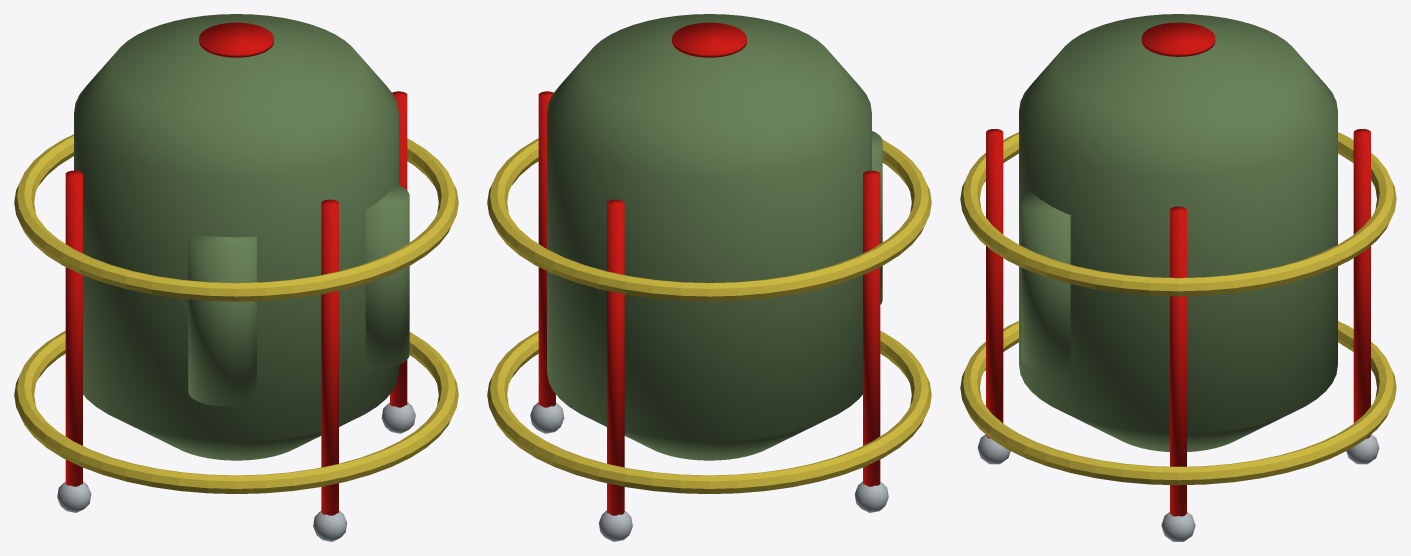
3 renders of one model, left to right at view 1: azimuth 30°, elevation 25°; view 2: azimuth 150°, elevation 25°; view 3: azimuth 270°, elevation 25°, orthographic.
Visible parts, largest first — view 1: TI076 / rounded cylindrical payload, TI076 / large protective guard ring.001, TI076 / large protective guard ring, TI076 / front ribbed service pod, TI076 / front ribbed service pod.001, TI076 / guard upright.003, TI076 / guard upright.002, TI076 / top red seal, TI076 / guard upright, TI076 / support foot, TI076 / support foot.002, TI076 / support foot.003; view 2: TI076 / rounded cylindrical payload, TI076 / large protective guard ring, TI076 / large protective guard ring.001, TI076 / guard upright.001, TI076 / guard upright.002, TI076 / guard upright, TI076 / top red seal, TI076 / support foot, TI076 / support foot.002, TI076 / support foot.001, TI076 / front ribbed service pod; view 3: TI076 / rounded cylindrical payload, TI076 / large protective guard ring.001, TI076 / large protective guard ring, TI076 / front ribbed service pod.001, TI076 / guard upright.001, TI076 / guard upright.003, TI076 / guard upright, TI076 / top red seal, TI076 / support foot, TI076 / support foot.001, TI076 / support foot.003.
Part boxes in pixels (x1,y1,x2,y2): TI076 / rounded cylindrical payload: (74,14,398,460); TI076 / large protective guard ring.001: (14,134,458,301); TI076 / large protective guard ring: (14,331,458,493); TI076 / front ribbed service pod: (188,234,256,405); TI076 / front ribbed service pod.001: (365,184,409,368); TI076 / guard upright.003: (321,199,338,515); TI076 / guard upright.002: (65,170,82,486); TI076 / top red seal: (199,22,273,57); TI076 / guard upright: (390,91,407,407); TI076 / support foot: (381,402,415,433); TI076 / support foot.002: (57,481,91,512); TI076 / support foot.003: (313,510,347,541); TI076 / rounded cylindrical payload: (547,14,871,460); TI076 / large protective guard ring: (487,331,931,493); TI076 / large protective guard ring.001: (487,138,931,301); TI076 / guard upright.001: (607,199,624,515); TI076 / guard upright.002: (863,170,880,486); TI076 / guard upright: (538,91,555,407); TI076 / top red seal: (672,22,746,57); TI076 / support foot: (530,402,564,433); TI076 / support foot.002: (854,481,888,512); TI076 / support foot.001: (598,510,632,541); TI076 / front ribbed service pod: (872,131,882,304); TI076 / rounded cylindrical payload: (1019,14,1337,451); TI076 / large protective guard ring.001: (960,132,1396,296); TI076 / large protective guard ring: (960,321,1396,485); TI076 / front ribbed service pod.001: (1021,192,1070,371); TI076 / guard upright.001: (1353,129,1370,438); TI076 / guard upright.003: (986,129,1003,438); TI076 / guard upright: (1170,206,1186,516); TI076 / top red seal: (1141,22,1215,56); TI076 / support foot: (1161,512,1195,541); TI076 / support foot.001: (1346,434,1379,464); TI076 / support foot.003: (977,434,1010,464).
Size of the model in its own units: 1.78 by 1.91 by 1.78.
